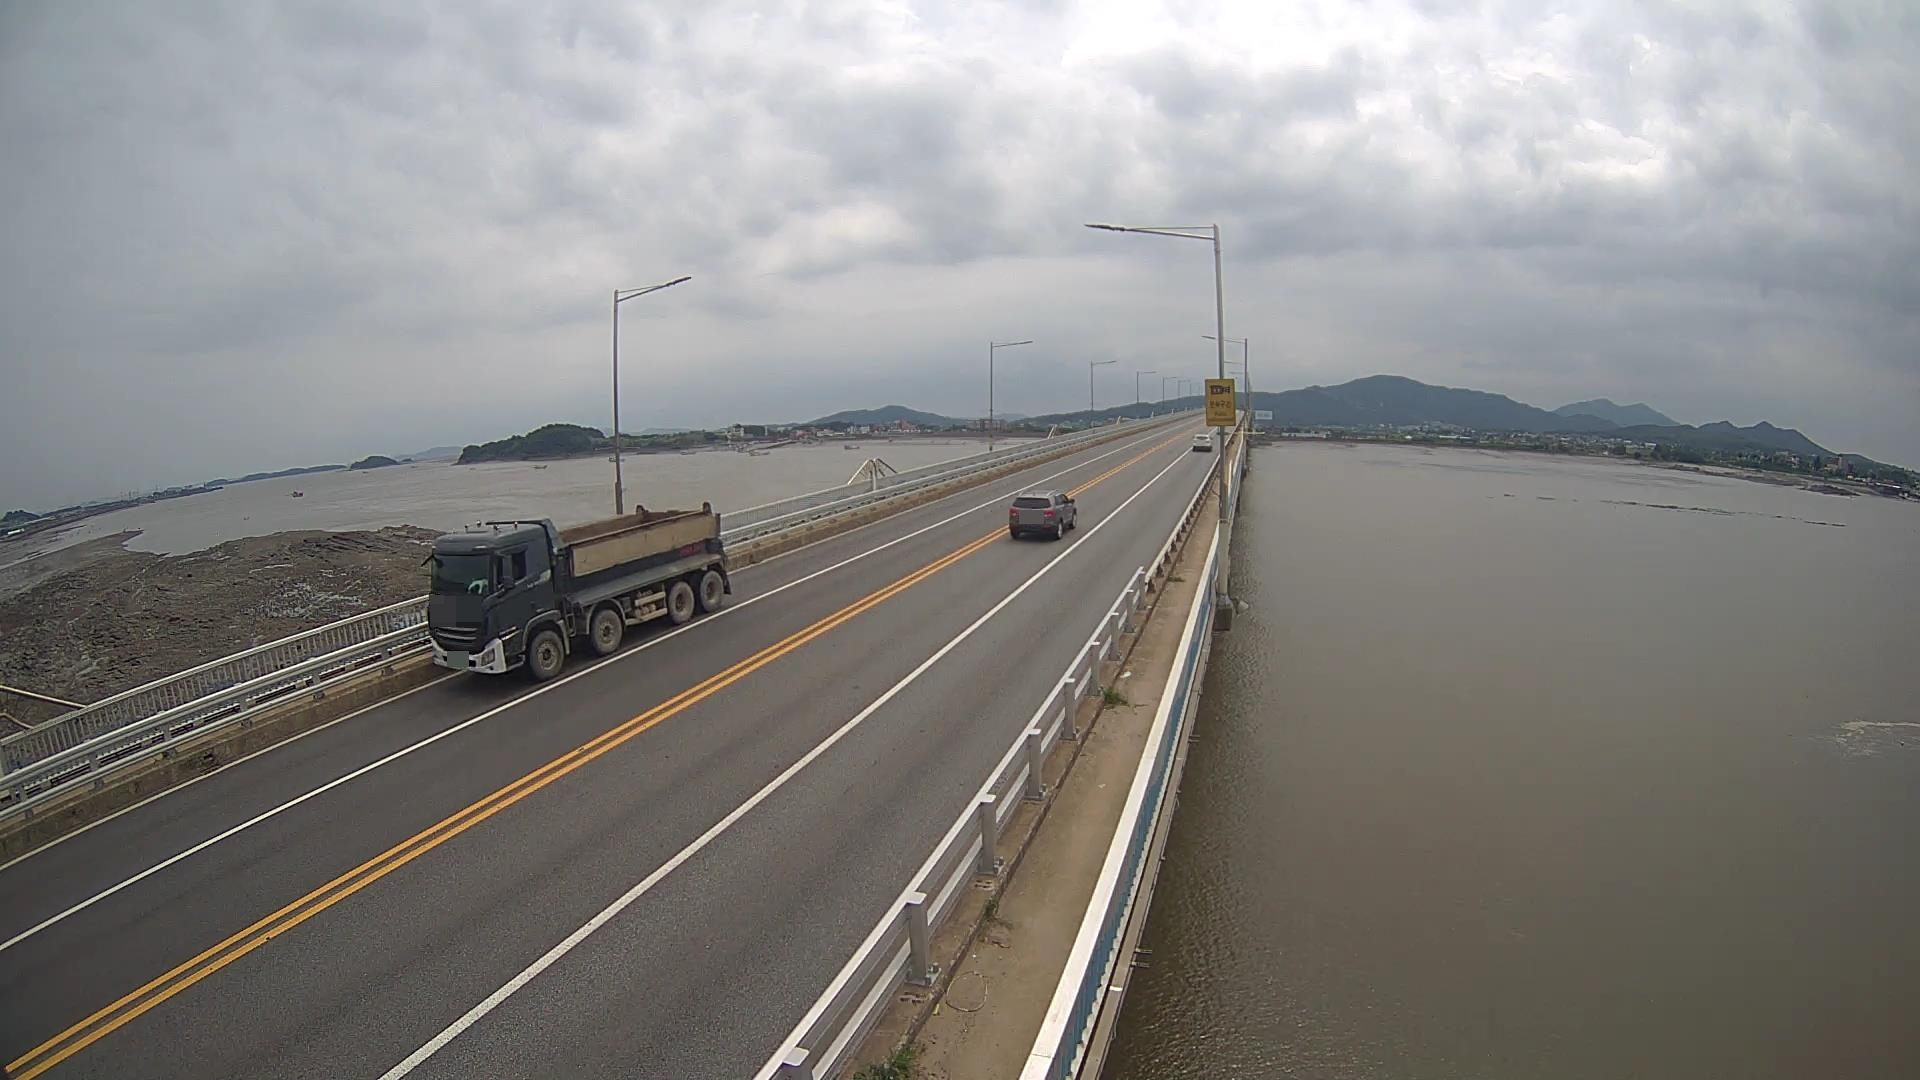정상차량: (420, 501, 733, 681)
